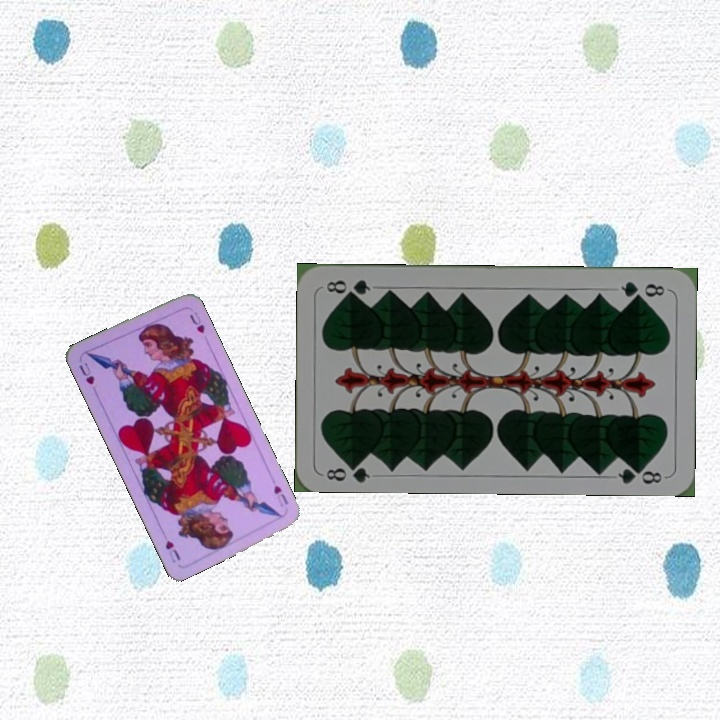G8: (322, 457, 372, 484), (617, 277, 668, 301)
HU: (75, 358, 97, 387), (269, 481, 291, 510)
